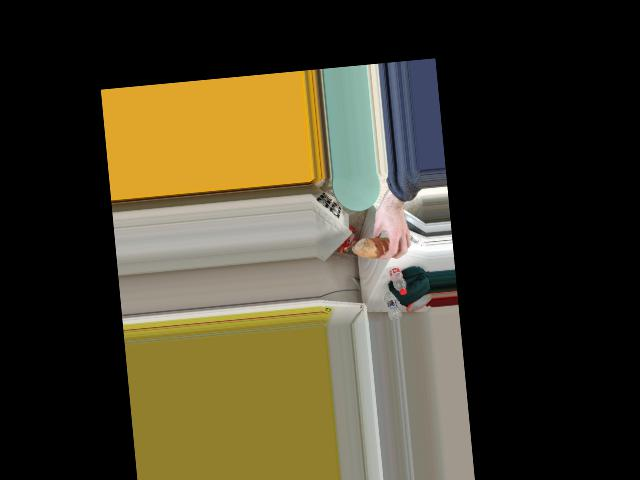sweet_potato: (359, 236, 392, 259)
